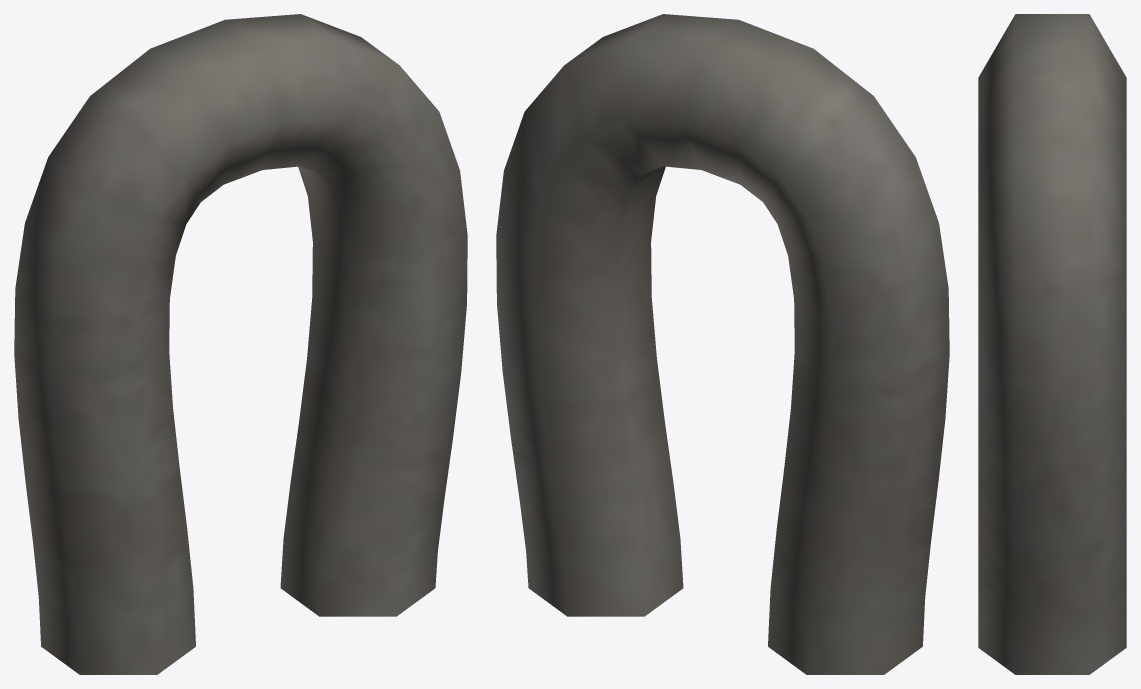
The model's file is cable_double_uturn.glb.
3 views of the same model, side by side, from view 1: azimuth 30°, elevation 25°; view 2: azimuth 150°, elevation 25°; view 3: azimuth 270°, elevation 25° (orthographic). The views are drawn at different scales.
Parts seen in each view (by area): view 1: cable_double_uturn.001; view 2: cable_double_uturn.001; view 3: cable_double_uturn.001.
Boxes of the visible parts, left/top/right/bottom form: cable_double_uturn.001: left=14, top=14, right=467, bottom=674; cable_double_uturn.001: left=496, top=14, right=949, bottom=674; cable_double_uturn.001: left=978, top=14, right=1126, bottom=674.
Size of the model in its own units: 0.0346 by 0.0465 by 0.0112.
1 material, 1 textured.
